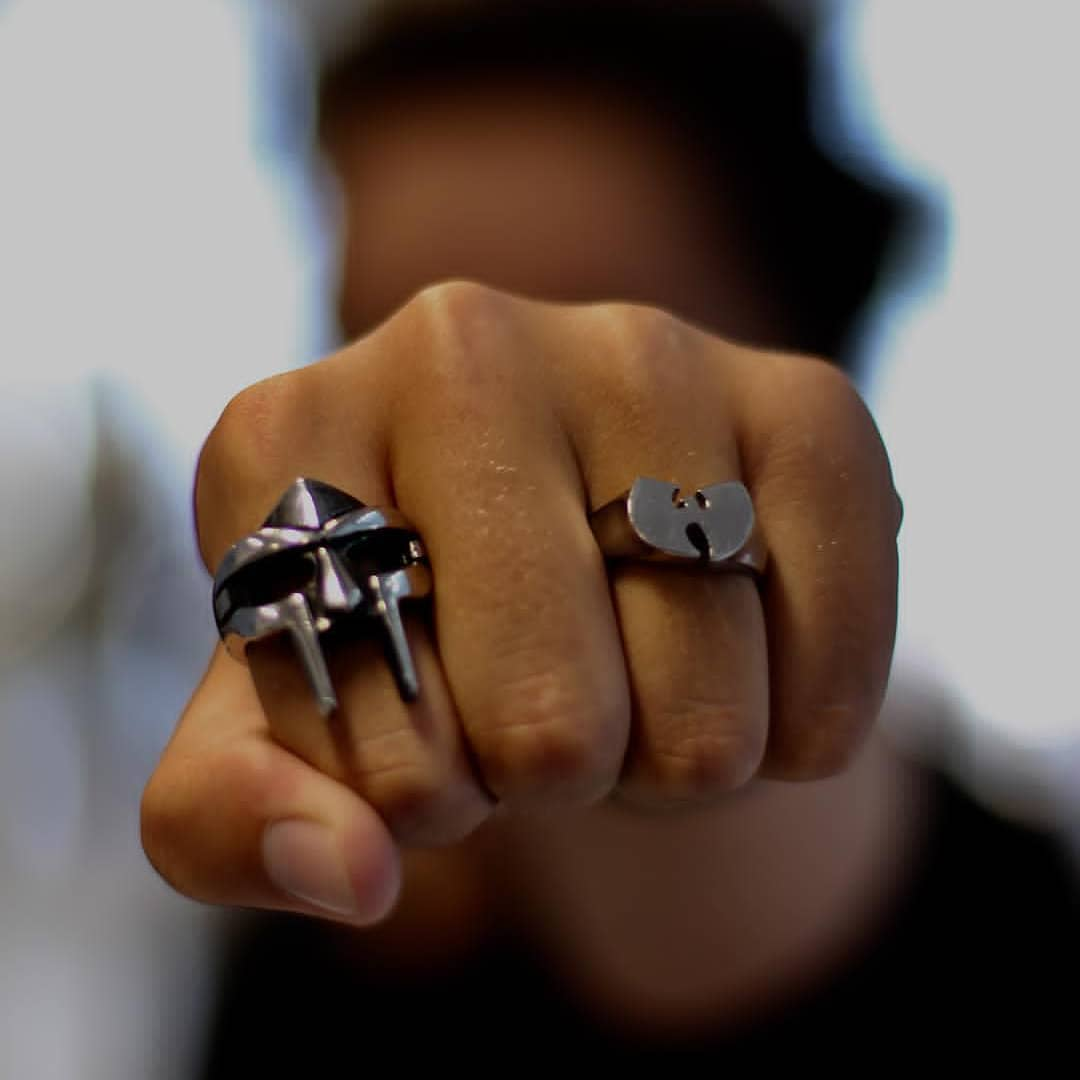hand: (156, 295, 843, 862)
